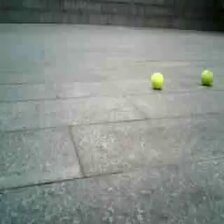tennis: (151, 72, 163, 88), (201, 70, 213, 84)
